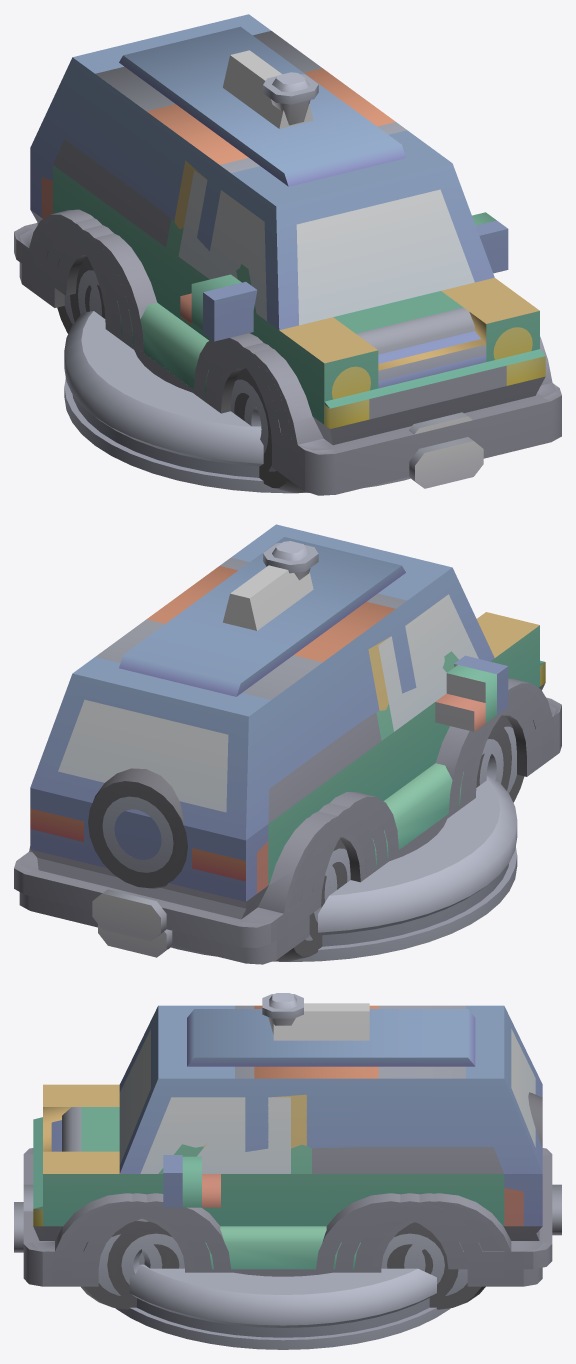
Rendered from kenney.glb.
The picture shows the model from 3 angles, top to bottom: view 1: azimuth 30°, elevation 25°; view 2: azimuth 150°, elevation 25°; view 3: azimuth 270°, elevation 25°; orthographic projection. The views are drawn at different scales.
Visible parts, largest first — view 1: auto/van, auto/suv, auto/hatchback-sports, platz/fountain-round-detail, auto/sedan, auto/taxi, platz/lantern; view 2: auto/van, auto/suv, auto/hatchback-sports, platz/fountain-round-detail, auto/sedan, auto/taxi, platz/lantern; view 3: auto/van, auto/suv, platz/fountain-round-detail, auto/sedan, auto/hatchback-sports, auto/taxi, platz/lantern.
Boxes of the visible parts, x1,y1,x2,y2 form: auto/van: (19, 14, 555, 486); auto/suv: (53, 31, 539, 466); auto/hatchback-sports: (14, 209, 561, 495); platz/fountain-round-detail: (64, 311, 410, 493); auto/sedan: (33, 68, 395, 478); auto/taxi: (30, 50, 539, 482); platz/lantern: (263, 72, 318, 125); auto/van: (19, 524, 555, 964); auto/suv: (88, 557, 553, 914); auto/hatchback-sports: (14, 660, 561, 961); platz/fountain-round-detail: (171, 776, 517, 961); auto/sedan: (147, 566, 542, 951); auto/taxi: (30, 565, 539, 914); platz/lantern: (263, 541, 318, 580); auto/van: (33, 1005, 542, 1286); auto/suv: (23, 1005, 542, 1274); platz/fountain-round-detail: (116, 1264, 450, 1349); auto/sedan: (71, 1005, 523, 1305); auto/hatchback-sports: (14, 1117, 561, 1309); auto/taxi: (43, 1003, 542, 1242); platz/lantern: (262, 993, 303, 1034).
Bounding box in the file's own units: 2 × 1.61 × 2.85.
